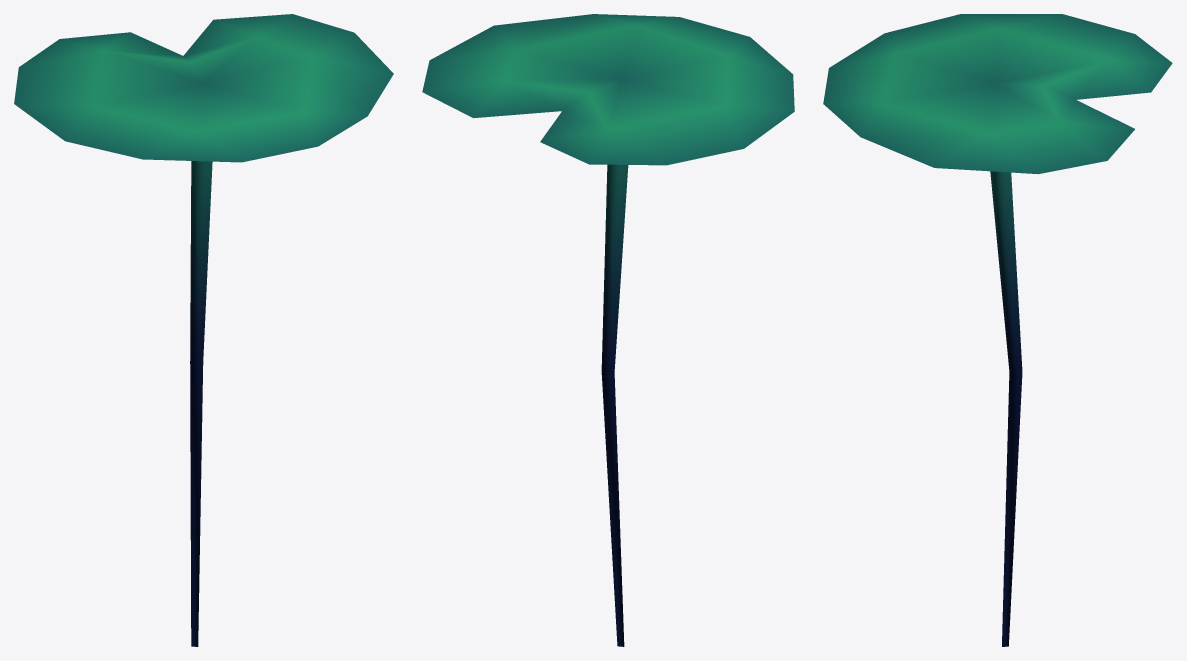
Rendered from Water_Plant_1C.fbx.
The picture shows the model from 3 angles, left to right: view 1: azimuth 30°, elevation 25°; view 2: azimuth 150°, elevation 25°; view 3: azimuth 270°, elevation 25°; orthographic projection.
Visible parts, largest first — view 1: Water_Plant_1C; view 2: Water_Plant_1C; view 3: Water_Plant_1C.
Part boxes in pixels (x1,y1,x2,y2): Water_Plant_1C: (14,14,393,646); Water_Plant_1C: (422,14,794,646); Water_Plant_1C: (823,14,1172,646).
Bounding box in the file's own units: 60.92 × 100 × 56.17.
